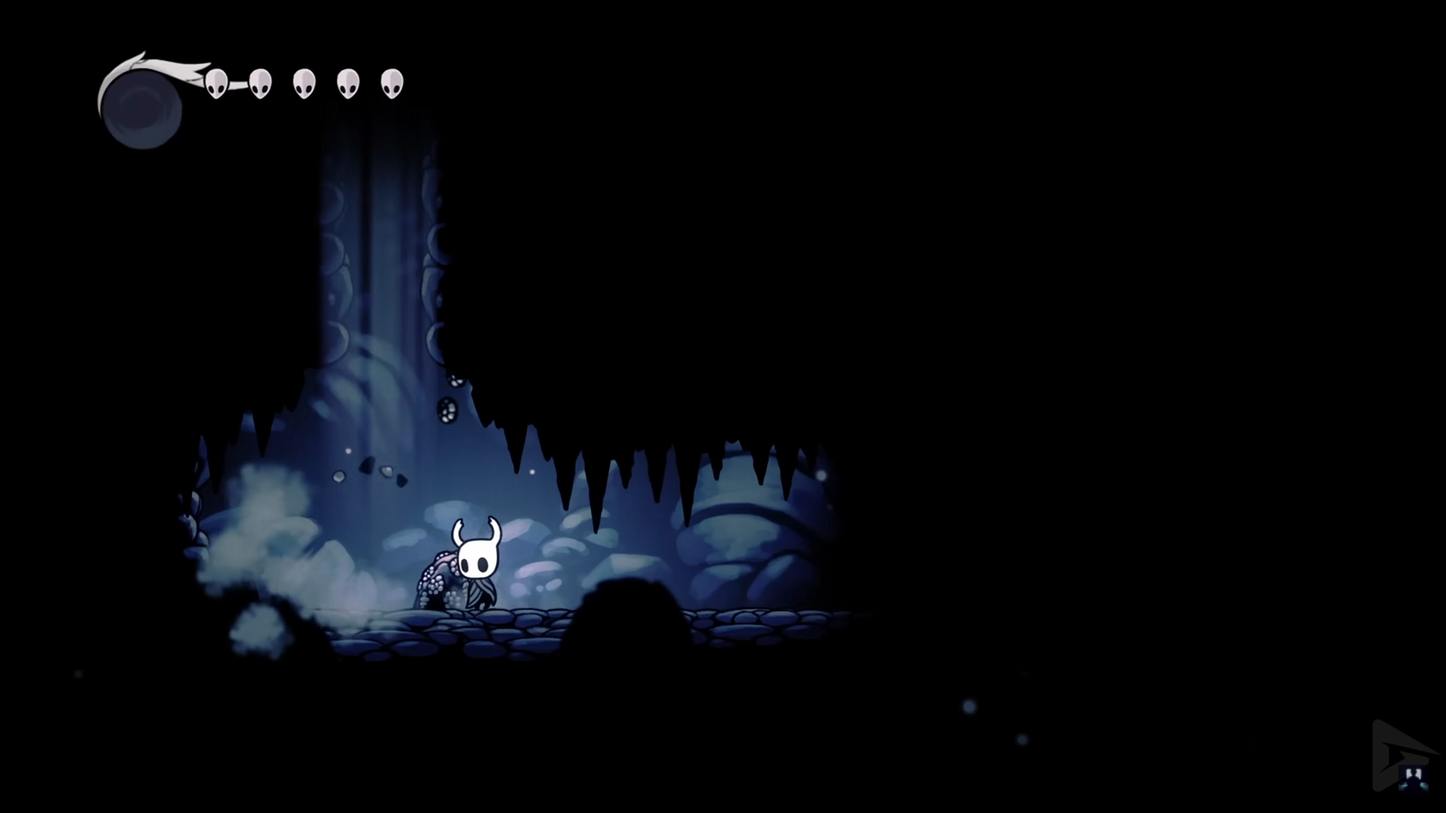HK: (449, 519, 505, 617)
